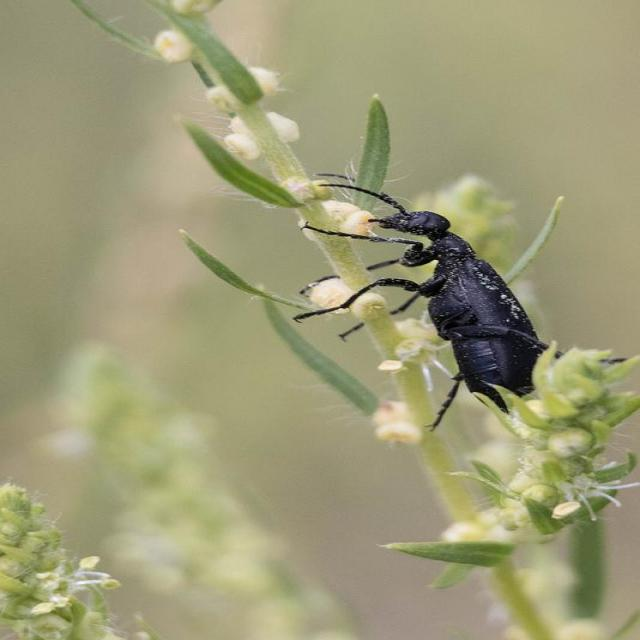BlisterBeetle-Adult-: (303, 158, 582, 436)
